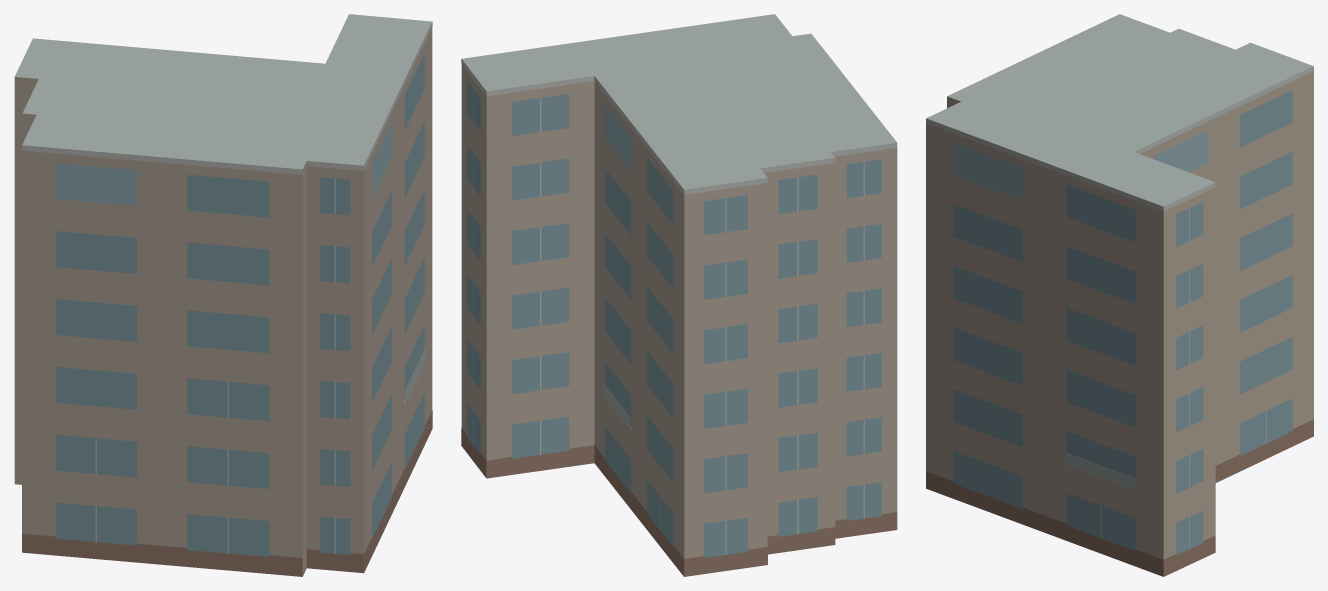
The model's file is survey-upis-32533953.glb.
3 views of the same model, side by side, from view 1: azimuth 30°, elevation 25°; view 2: azimuth 150°, elevation 25°; view 3: azimuth 270°, elevation 25° (orthographic). The views are drawn at different scales.
Visible parts, largest first — view 1: survey-upis-32533953.tmp; view 2: survey-upis-32533953.tmp; view 3: survey-upis-32533953.tmp.
Boxes of the visible parts, box(x1,y1,x2,y2) form: survey-upis-32533953.tmp: box(14, 14, 432, 576); survey-upis-32533953.tmp: box(461, 14, 897, 576); survey-upis-32533953.tmp: box(926, 14, 1313, 576).
Size of the model in its own units: 20.43 by 18.3 by 17.37.
